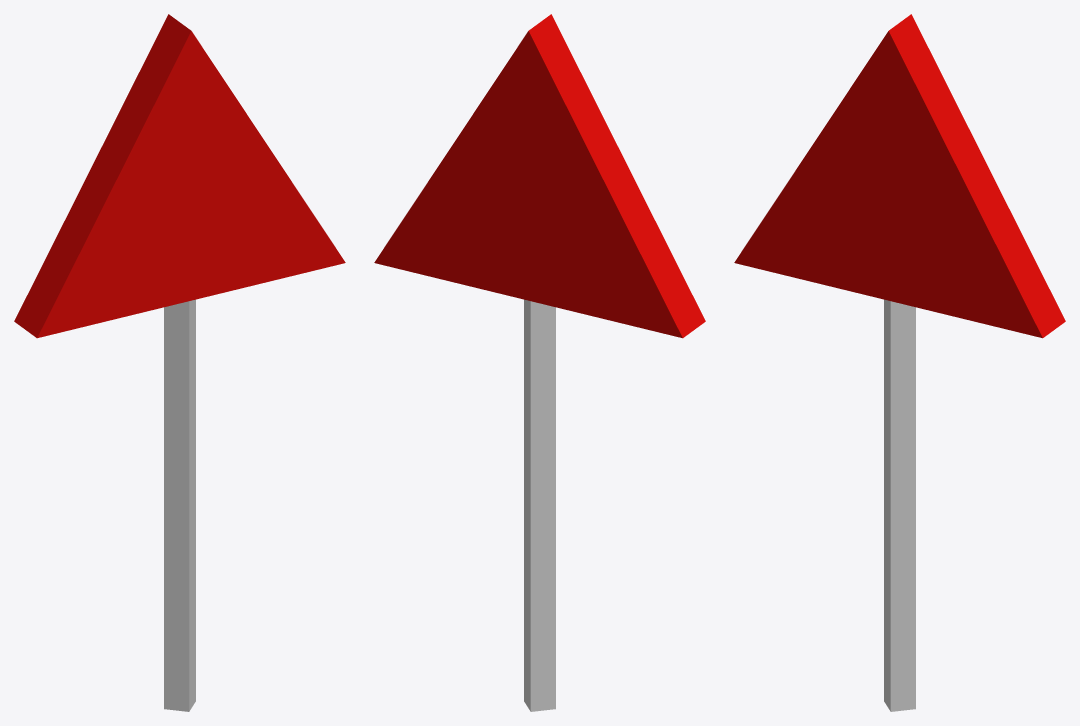
Rendered from mine_sign.glb.
3 views of the same model, side by side, from view 1: azimuth 30°, elevation 25°; view 2: azimuth 150°, elevation 25°; view 3: azimuth 330°, elevation 25° (orthographic).
Visible parts, largest first — view 1: Plane, Cylinder; view 2: Plane, Cylinder; view 3: Plane, Cylinder.
Part boxes in pixels (x1=…): Plane: x1=14, y1=14, x2=345, y2=338; Cylinder: x1=164, y1=299, x2=195, y2=711; Plane: x1=374, y1=14, x2=705, y2=338; Cylinder: x1=524, y1=299, x2=555, y2=711; Plane: x1=734, y1=14, x2=1065, y2=338; Cylinder: x1=884, y1=299, x2=915, y2=711.
Size of the model in its own units: 0.7764 by 1.64 by 0.1.
